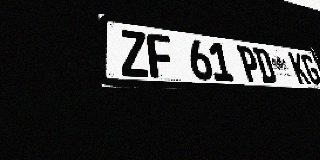1: (206, 41, 234, 81)
6: (186, 38, 215, 81)
D: (252, 47, 278, 83)
F: (146, 33, 176, 79)
G: (300, 54, 320, 85)
K: (288, 52, 311, 85)
P: (236, 45, 263, 83)
Z: (119, 29, 150, 78)
